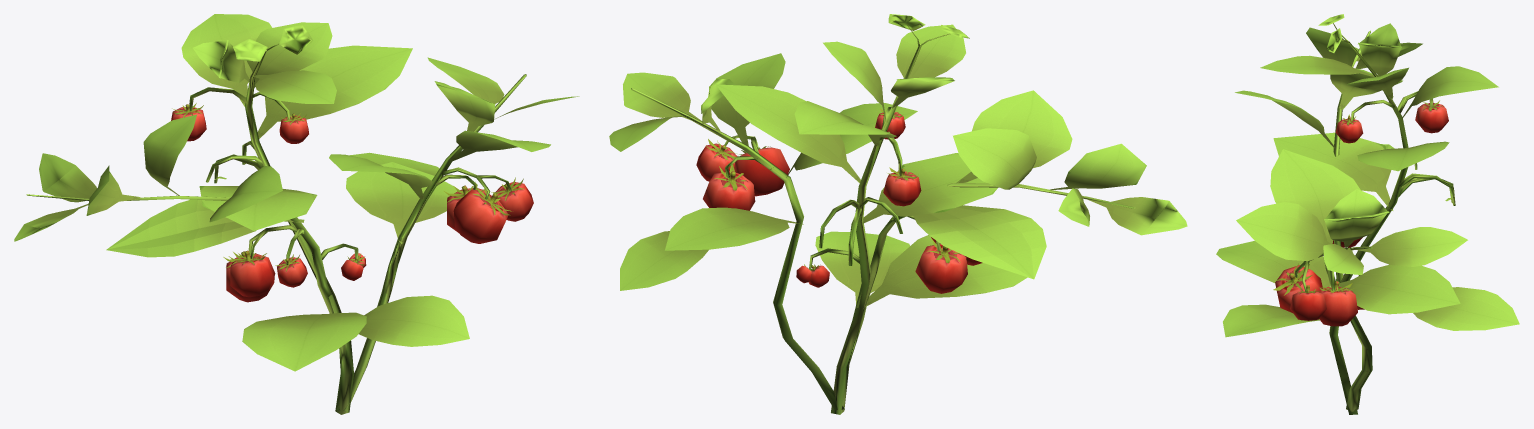
File: tomato_Stage_3.fbx
3 views of the same model, side by side, from view 1: azimuth 30°, elevation 25°; view 2: azimuth 150°, elevation 25°; view 3: azimuth 270°, elevation 25° (orthographic). The views are drawn at different scales.
Parts seen in each view (by area): view 1: Tomato_Level3; view 2: Tomato_Level3; view 3: Tomato_Level3.
Part boxes in pixels (x1,y1,x2,y2): Tomato_Level3: (14, 14, 579, 414); Tomato_Level3: (609, 14, 1187, 414); Tomato_Level3: (1216, 14, 1519, 414).
Size of the model in its own units: 312 by 215 by 166.
2 materials, 2 textured.
